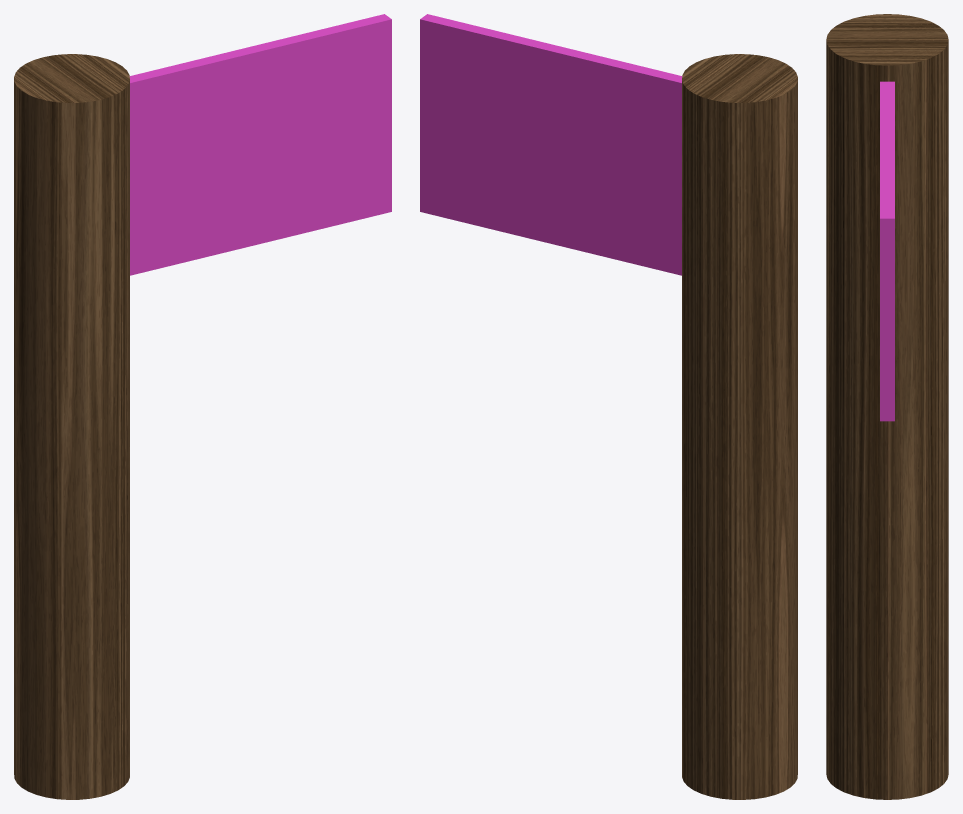
Rendered from FlagPink.fbx.
The picture shows the model from 3 angles, left to right: view 1: azimuth 30°, elevation 25°; view 2: azimuth 150°, elevation 25°; view 3: azimuth 270°, elevation 25°; orthographic projection. The views are drawn at different scales.
Parts seen in each view (by area): view 1: Cylinder, Cube; view 2: Cylinder, Cube; view 3: Cylinder, Cube.
Boxes of the visible parts, <box> form: Cylinder: <box>14,54,129,799</box>; Cube: <box>129,14,391,275</box>; Cylinder: <box>682,54,797,799</box>; Cube: <box>420,14,682,275</box>; Cylinder: <box>826,14,948,799</box>; Cube: <box>880,81,894,421</box>.
Size of the model in its own units: 364 by 662 by 100.
2 materials, 1 textured.
